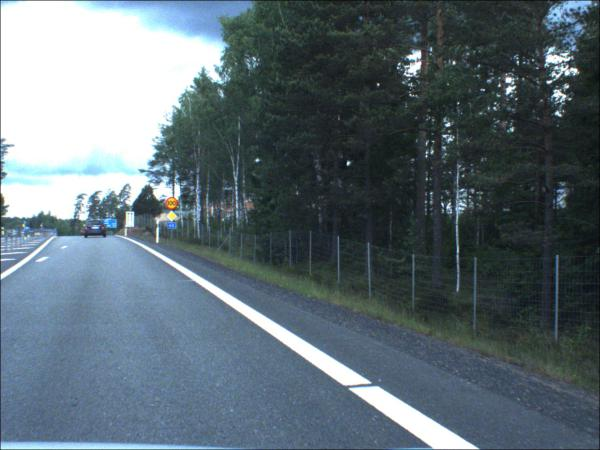100_SIGN: (167, 198, 180, 211)
PRIORITY_ROAD: (168, 212, 179, 224)
